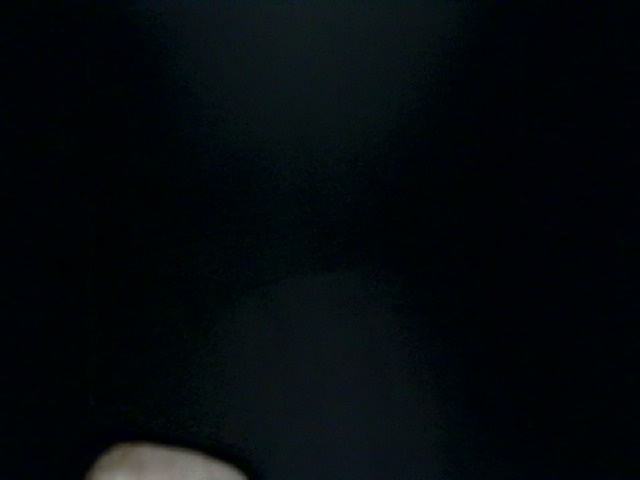QTLJ: (360, 240, 612, 473)
